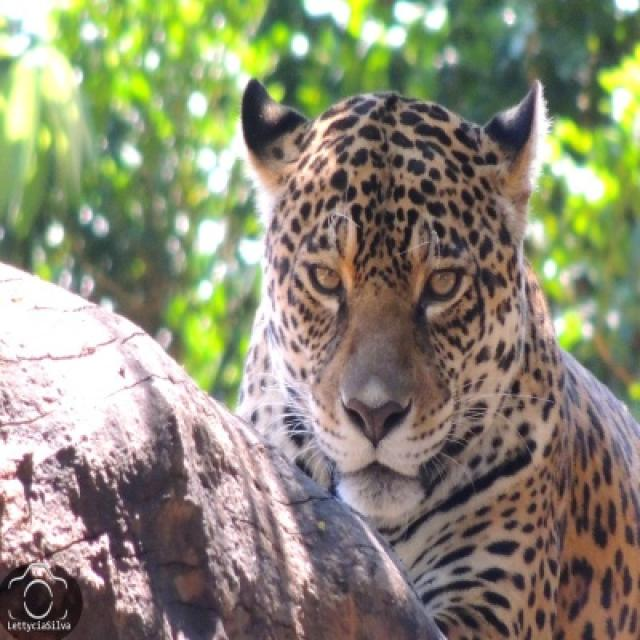Jaguar: (235, 78, 638, 638)
